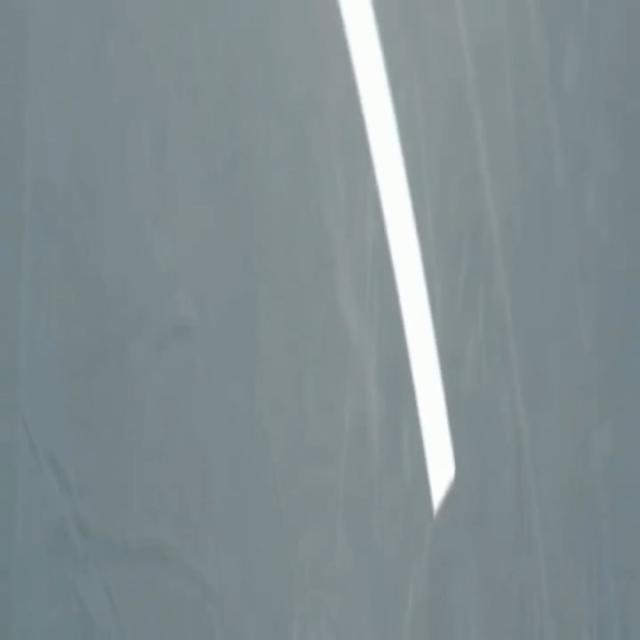center: (338, 0, 453, 515)
